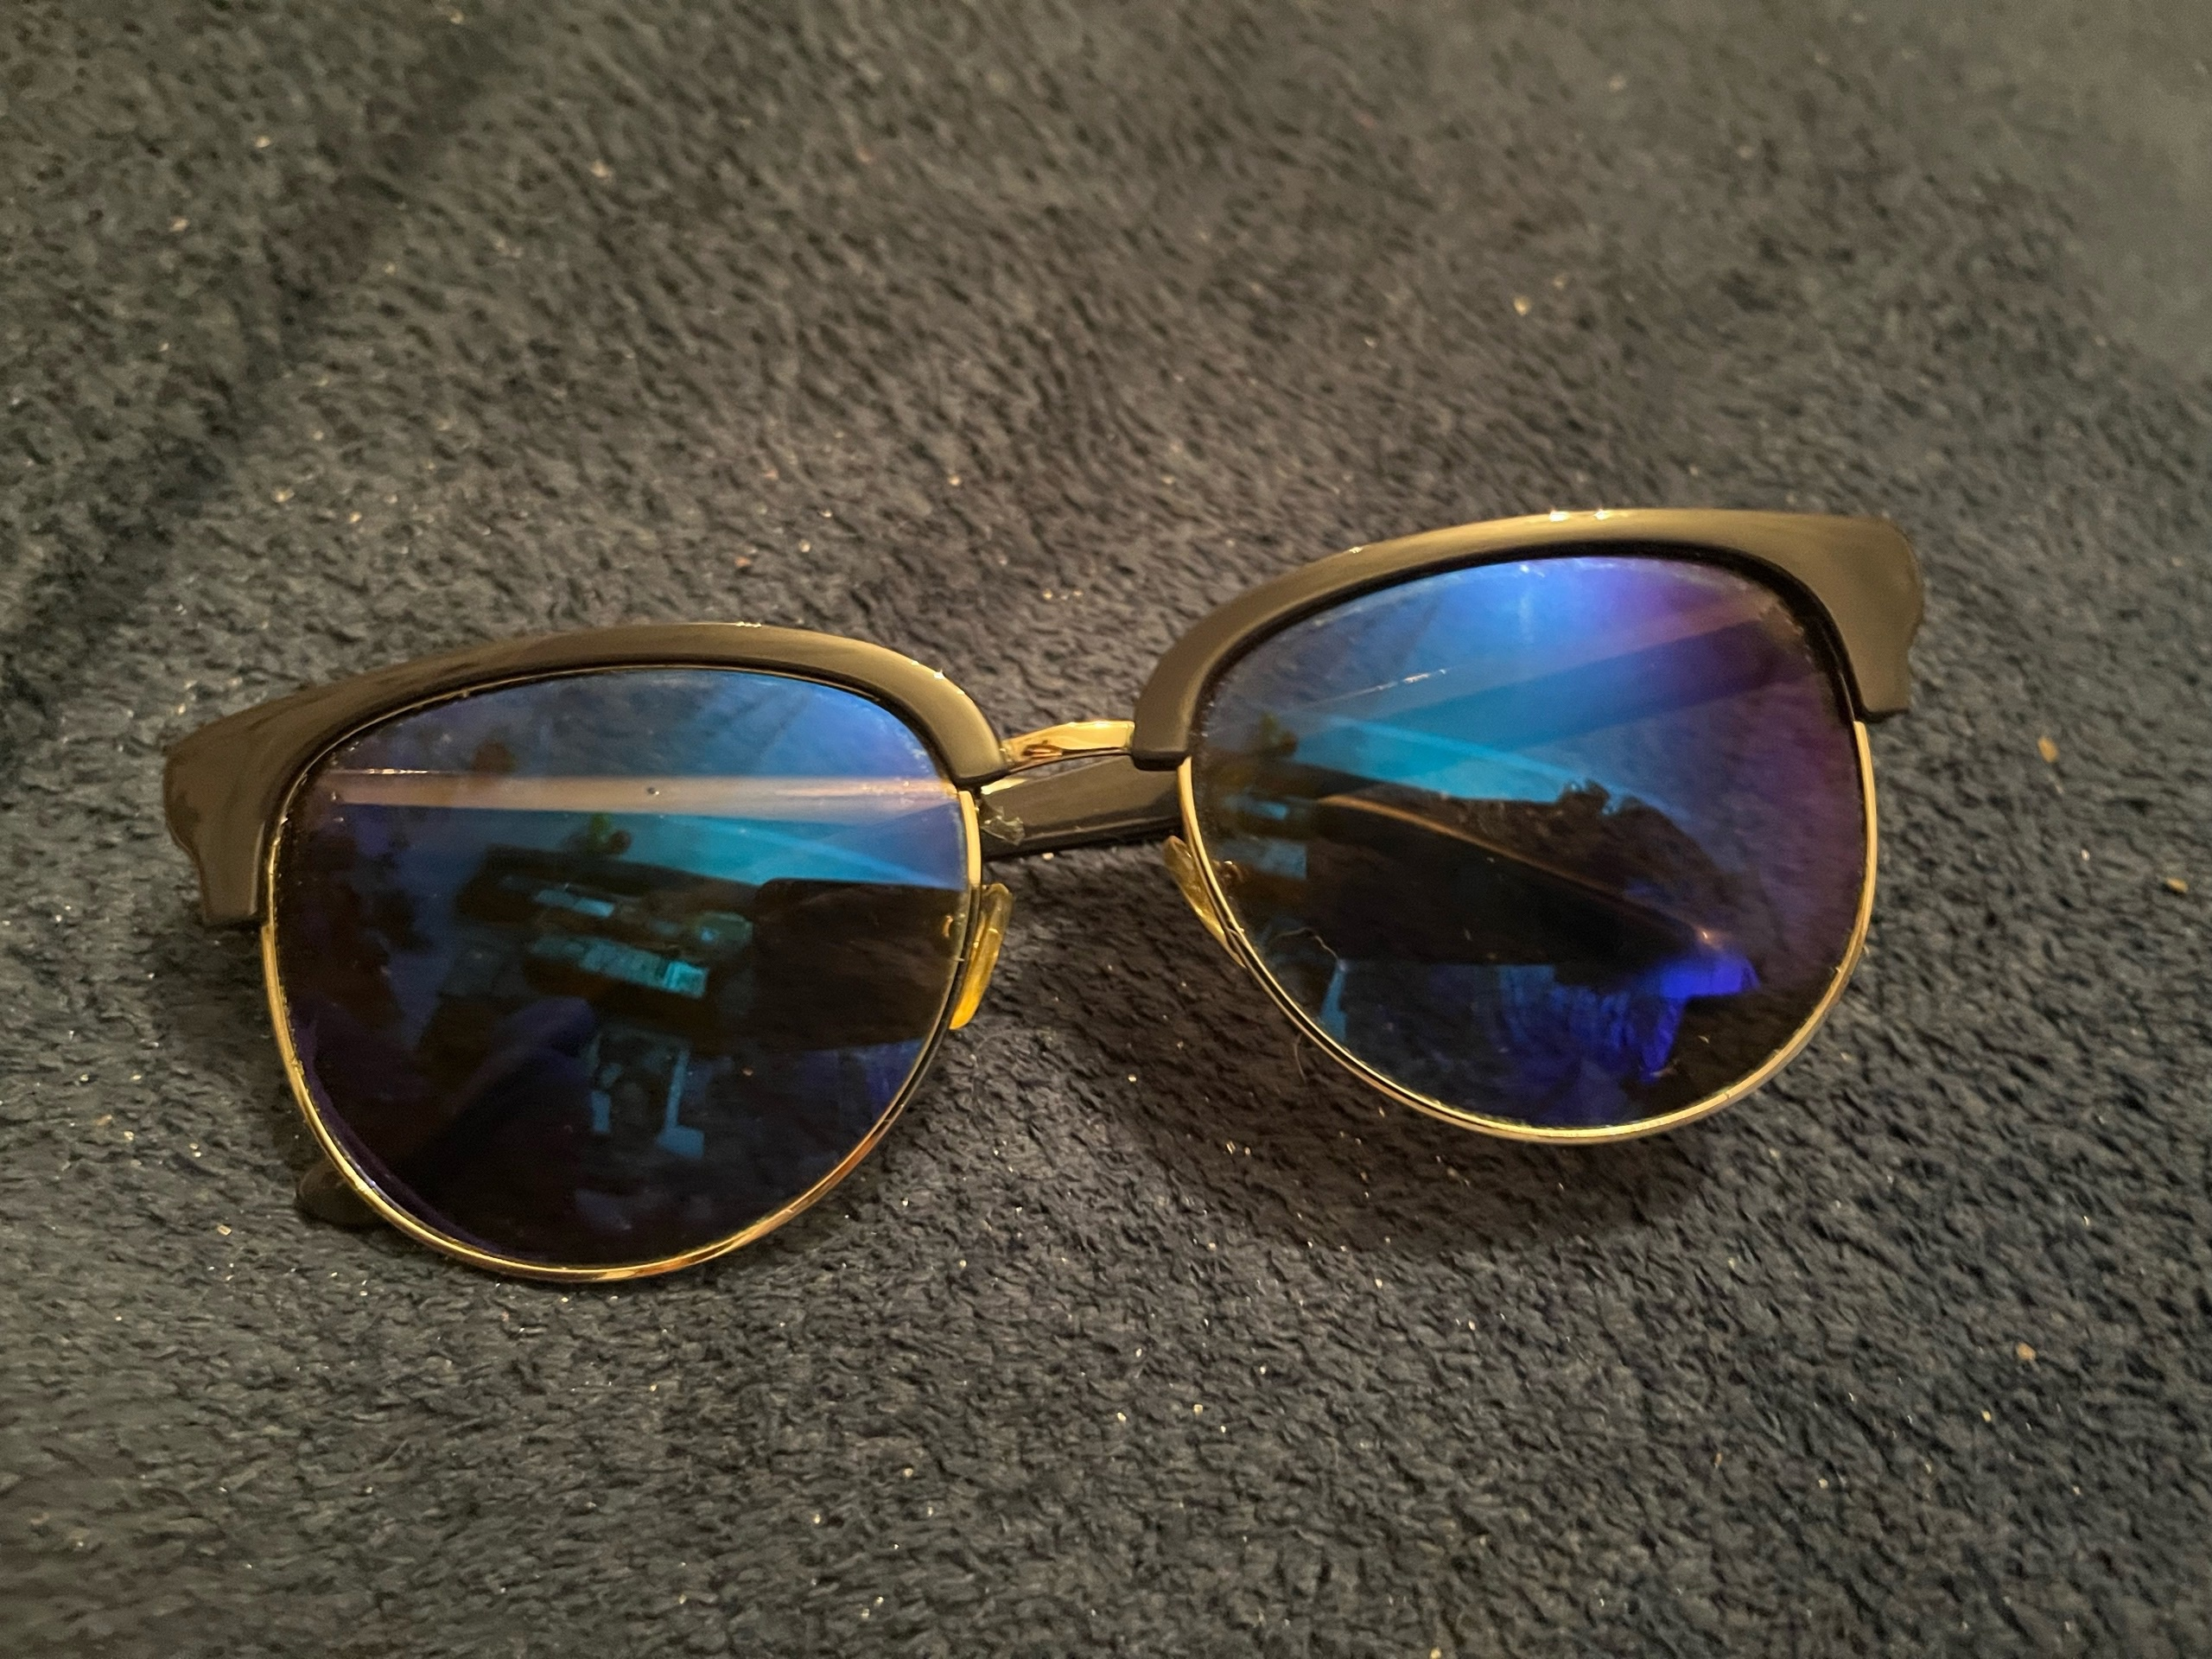glasses: (167, 511, 1921, 1281)
